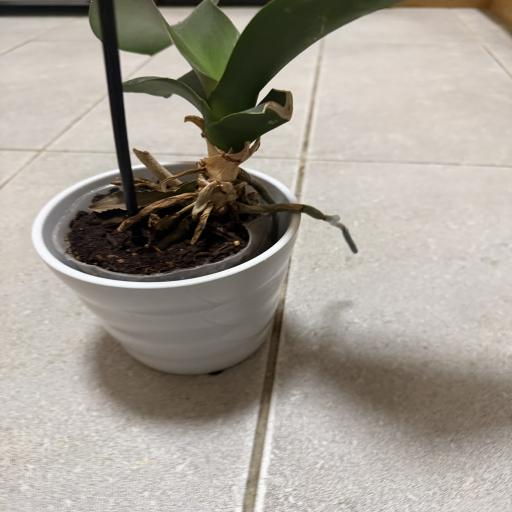Plant Pot: (31, 159, 301, 376)
